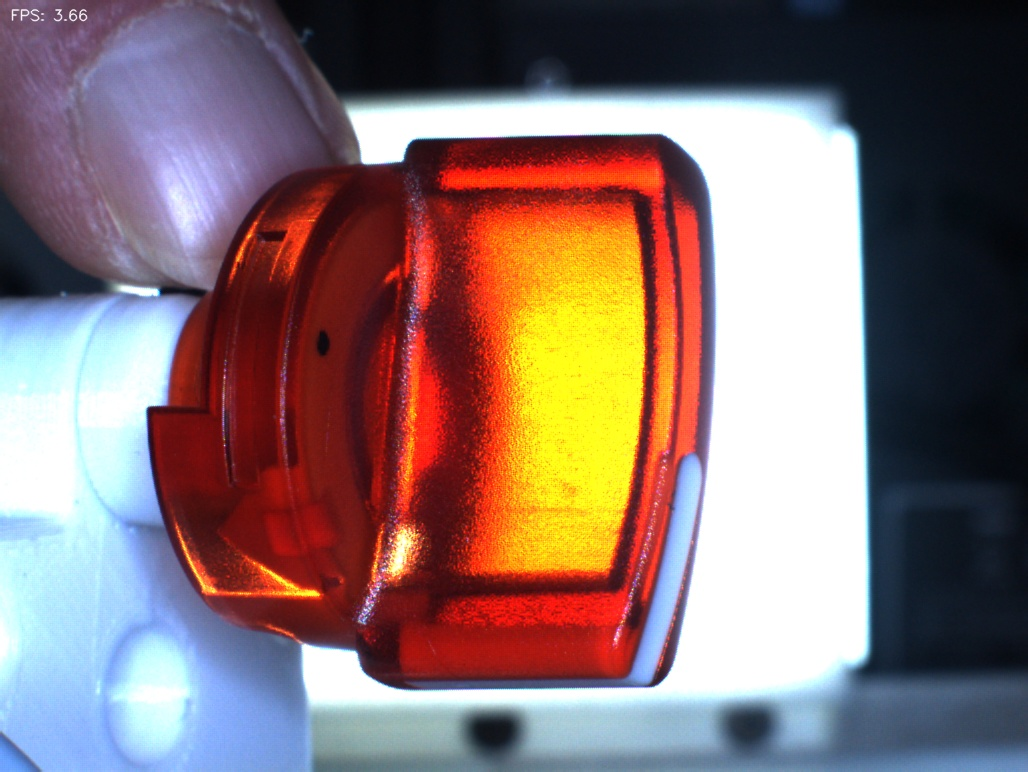PointNoir: (287, 295, 368, 394)
